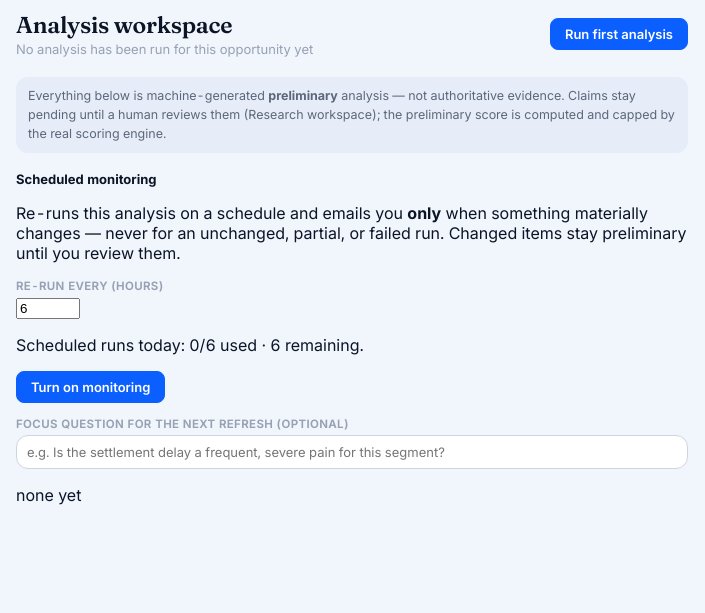
WorkspacePanel (Phase R5 PR4-UI) › shows quota remaining and moves to the confirmation-pending state on opt-in
expect the text with test id "monitoring-quota" shows "6 remaining": met, box [16, 335, 364, 355]
Click the button with test id "monitoring-optin" at (91, 387), box [16, 371, 165, 403]
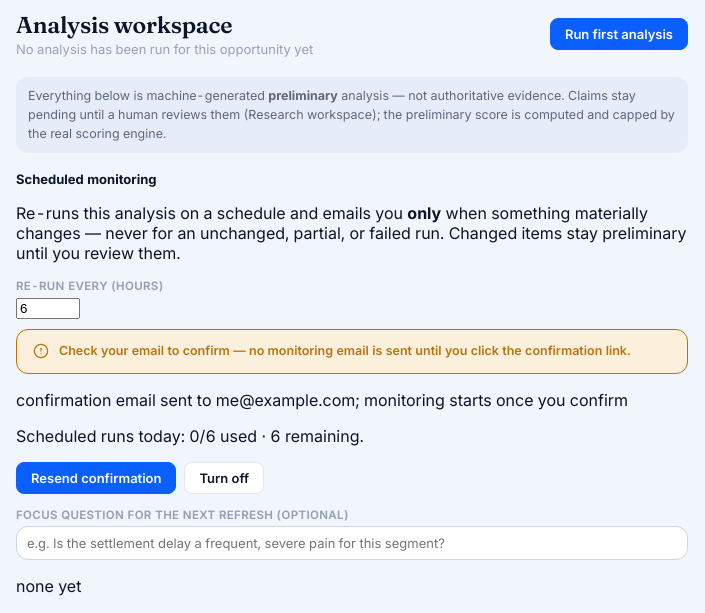
expect the element with test id "monitoring-pending" is shown: met, box [16, 329, 688, 374]
expect the text with test id "monitoring-note" shows "confirmation email sent": met, box [16, 390, 628, 410]
expect the button with test id "monitoring-optin" reads "Resend confirmation": met, box [16, 462, 176, 494]
